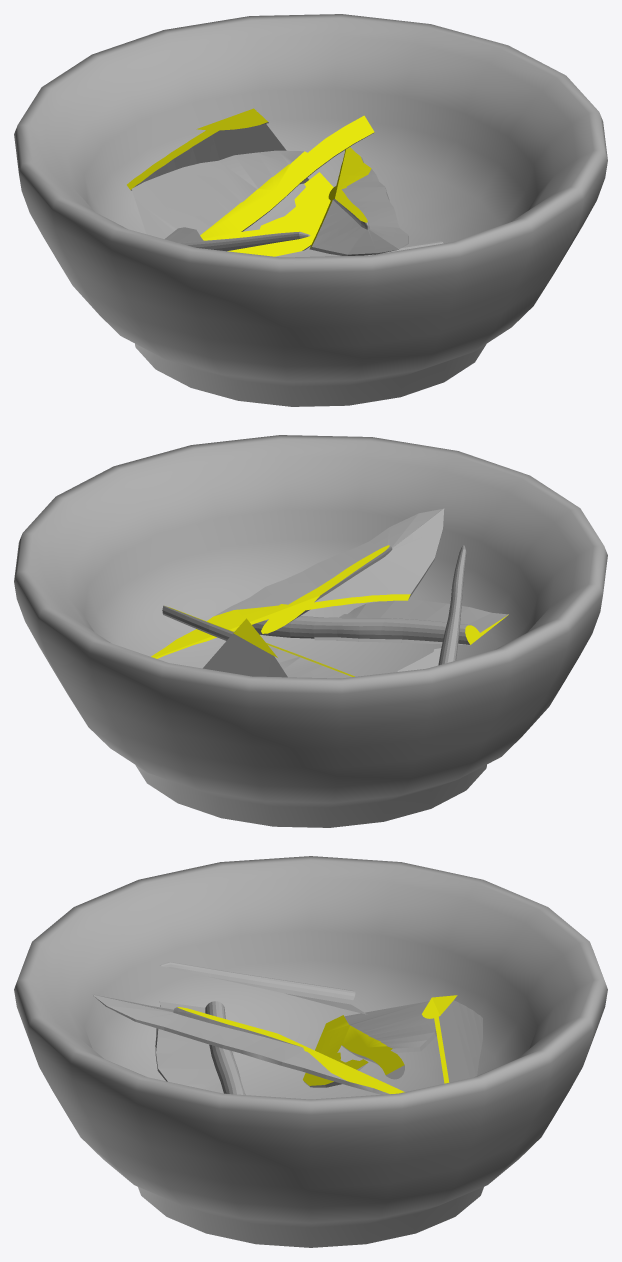
The model's file is CutFeatherInBowl.fbx.
3 views of the same model, one above another, from view 1: azimuth 30°, elevation 25°; view 2: azimuth 150°, elevation 25°; view 3: azimuth 270°, elevation 25° (orthographic).
Visible parts, largest first — view 1: cuenco, shard8, shard7, shard9, shard10; view 2: cuenco, shard7, shard6, shard9, shard8, shard10; view 3: cuenco, shard7, shard8, shard6, shard9, shard10.
Part boxes in pixels (x1=…): cuenco: x1=14, y1=14, x2=607, y2=406; shard8: x1=131, y1=115, x2=374, y2=256; shard7: x1=309, y1=147, x2=408, y2=255; shard9: x1=127, y1=108, x2=308, y2=190; shard10: x1=165, y1=227, x2=310, y2=251; cuenco: x1=14, y1=435, x2=607, y2=827; shard7: x1=151, y1=508, x2=444, y2=658; shard6: x1=252, y1=599, x2=508, y2=645; shard9: x1=203, y1=618, x2=287, y2=677; shard8: x1=162, y1=605, x2=354, y2=678; shard10: x1=397, y1=545, x2=466, y2=671; cuenco: x1=14, y1=856, x2=607, y2=1247; shard7: x1=92, y1=994, x2=404, y2=1094; shard8: x1=303, y1=1001, x2=436, y2=1087; shard6: x1=155, y1=1001, x2=245, y2=1094; shard9: x1=422, y1=995, x2=482, y2=1083; shard10: x1=160, y1=962, x2=366, y2=1014.
Bounding box in the file's own units: 44.38 × 16.08 × 44.38.
